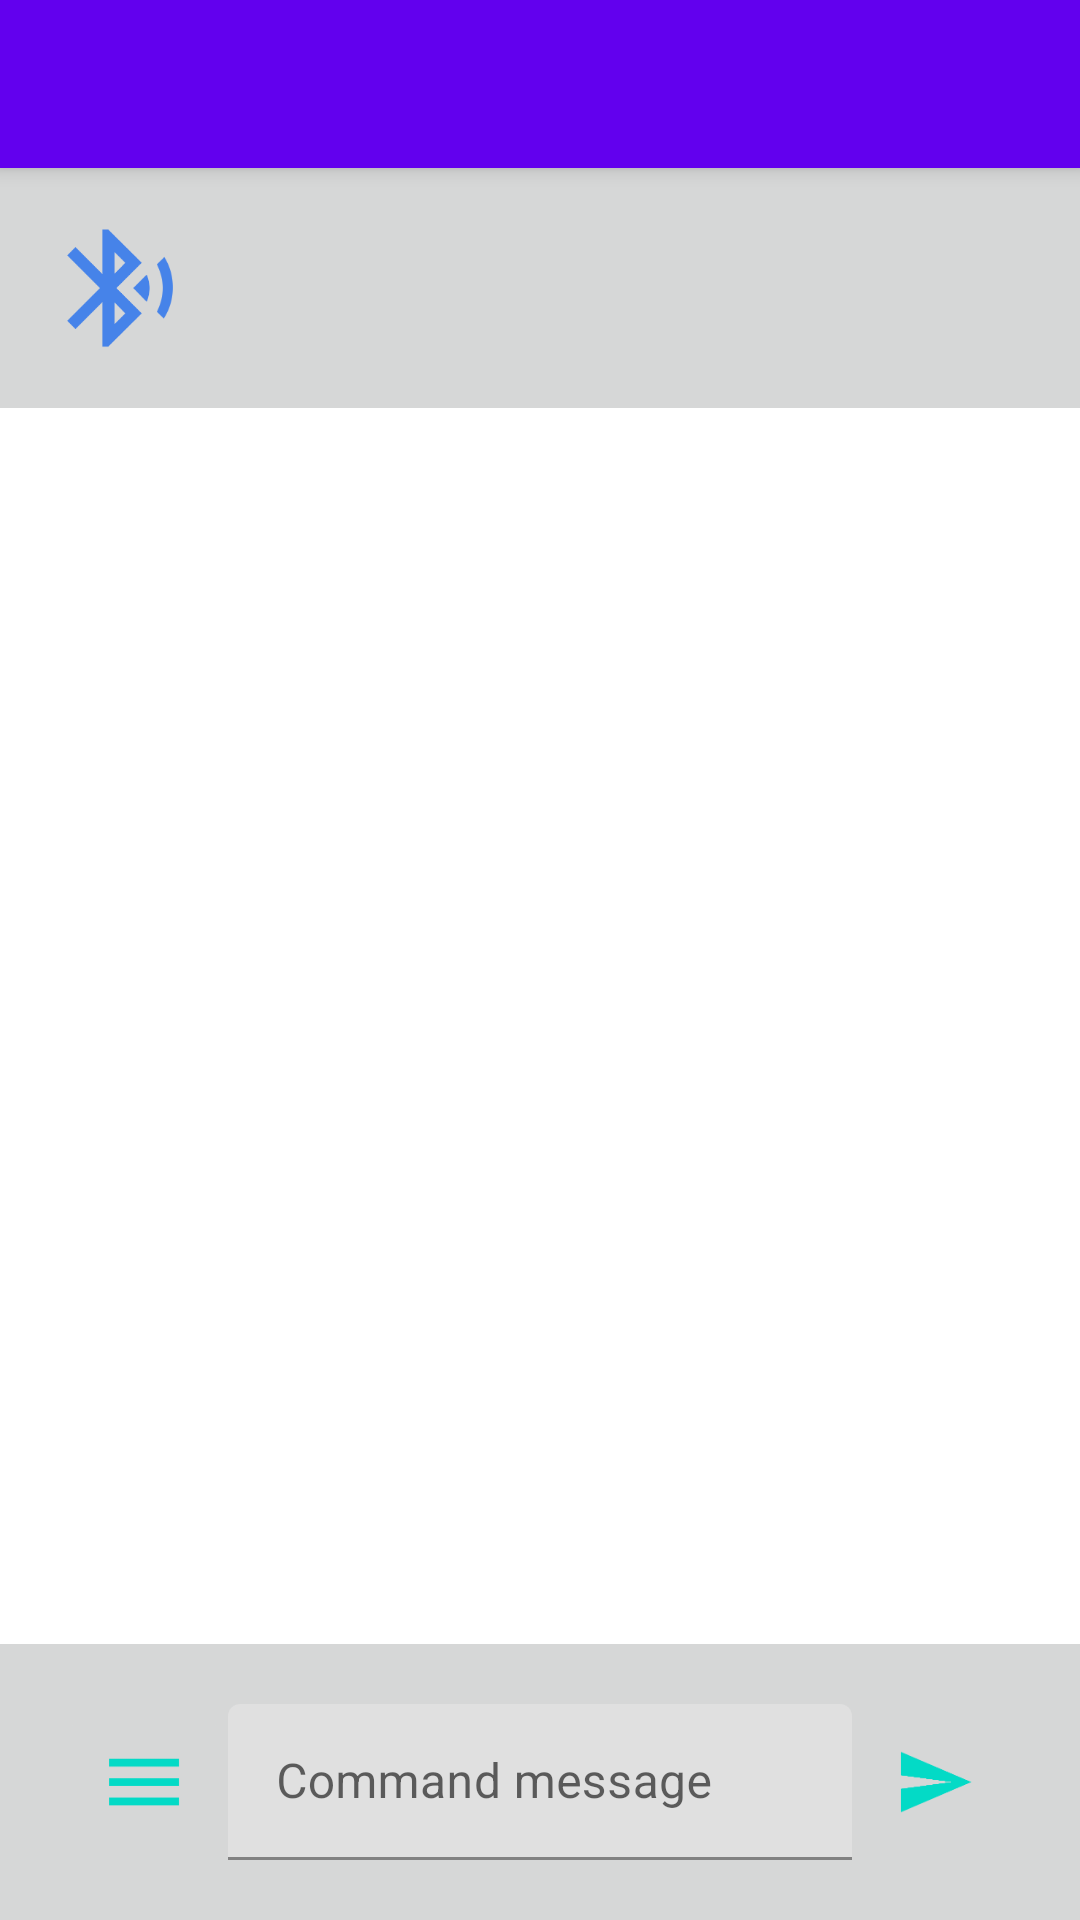

Icons on this 1080x1920 Android screen, each with its box as box(x1, y1, x2, y2):
menu: box(109, 1758, 179, 1806)
send: box(901, 1752, 971, 1813)
